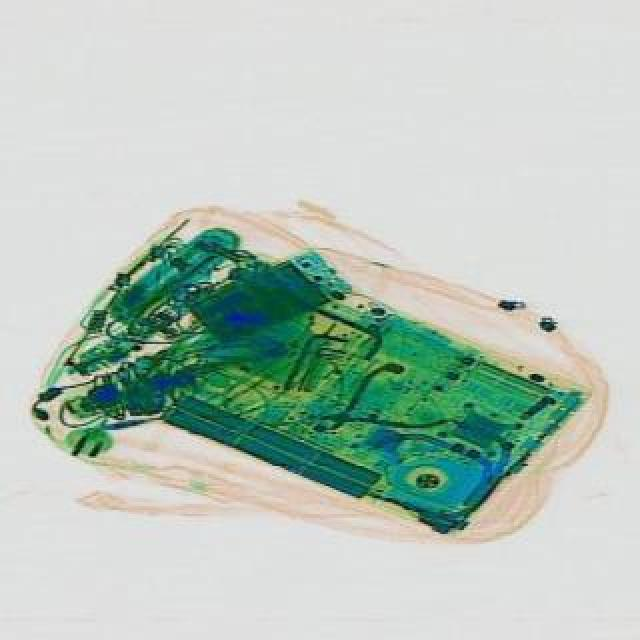wrench: (302, 350, 448, 462)
